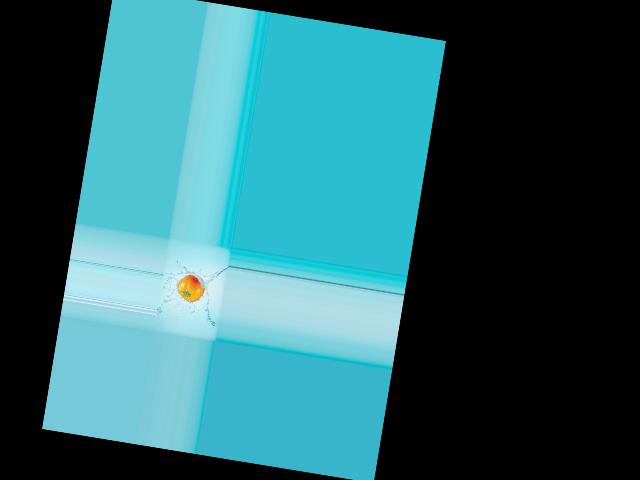tomato: (174, 272, 206, 303)
